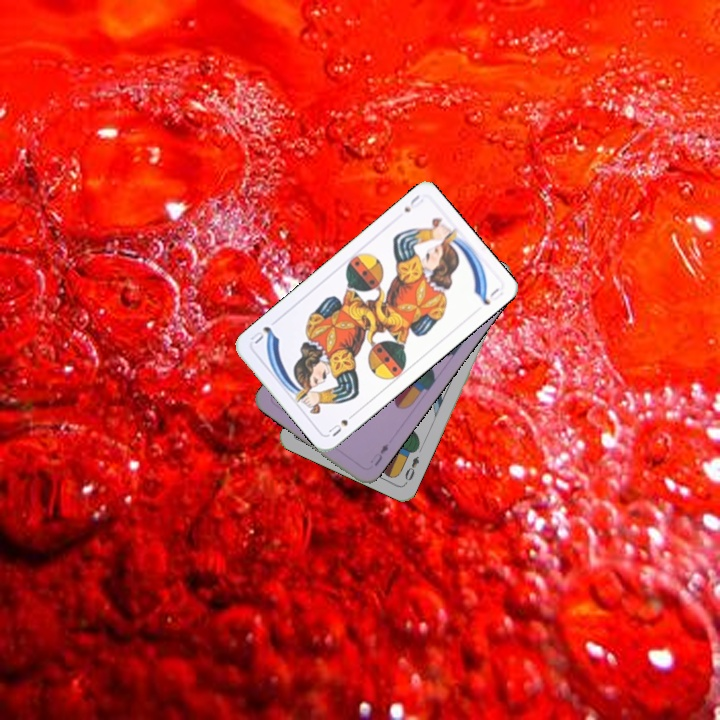EO: (401, 452, 422, 486)
EU: (366, 439, 391, 469)
SU: (324, 408, 359, 439), (400, 191, 426, 215)
